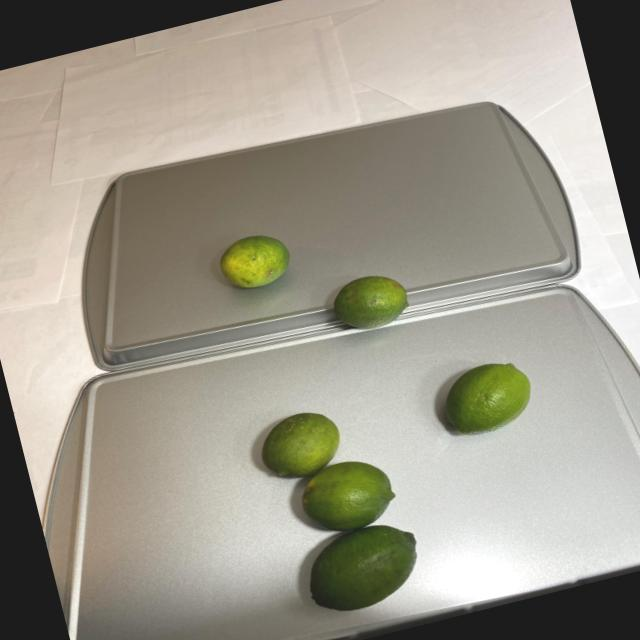lemon: (233, 388, 435, 636), (209, 200, 417, 362), (426, 342, 544, 448)
